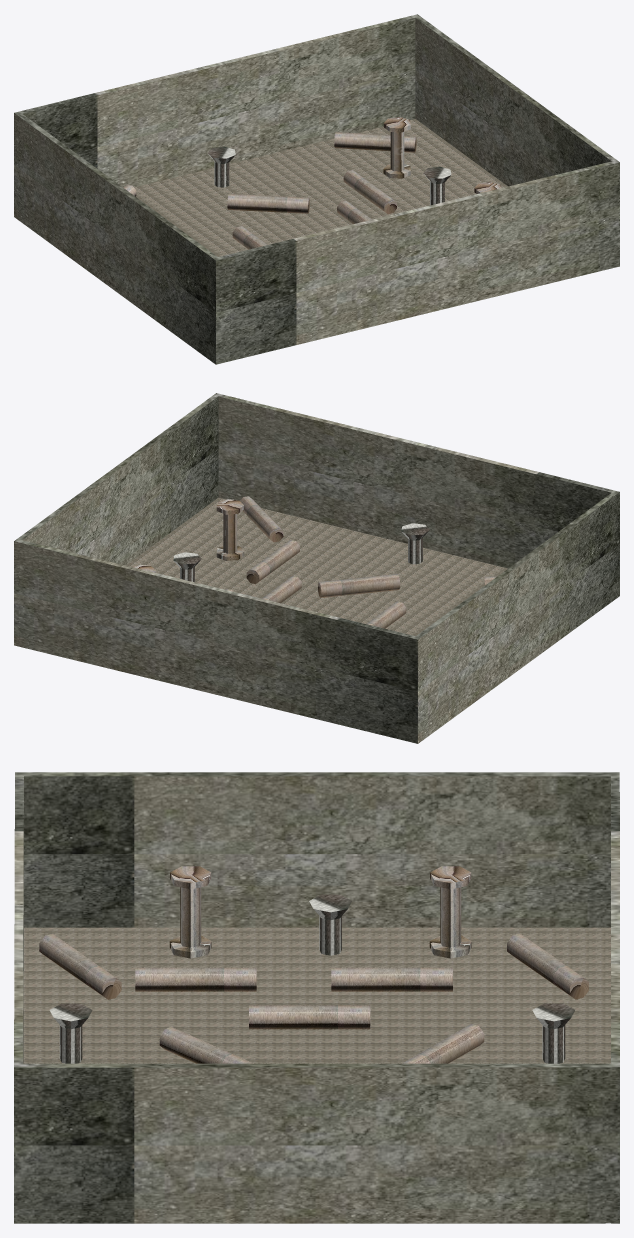
File: Column Arena.FBX
3 views of the same model, one above another, from view 1: azimuth 30°, elevation 25°; view 2: azimuth 150°, elevation 25°; view 3: azimuth 270°, elevation 25° (orthographic). The views are drawn at different scales.
Visible parts, largest first — view 1: Wall001, Box001, Cylinder018, Cylinder009, Cylinder022, Cylinder013, Cylinder023, Cylinder010; view 2: Wall001, Box001, Cylinder017, Cylinder008, Cylinder014, Cylinder021, Cylinder024, Cylinder016, Cylinder010, Cylinder015; view 3: Wall001, Box001, Cylinder011, Cylinder012, Cylinder016, Cylinder007, Cylinder006, Cylinder020, Cylinder019, Cylinder017, Cylinder024, Cylinder023 (+2 smaller).
Part boxes in pixels (x1,y1,x2,y2): Wall001: [14, 14, 619, 364]; Box001: [134, 119, 507, 256]; Cylinder018: [227, 194, 309, 213]; Cylinder009: [383, 117, 410, 178]; Cylinder022: [334, 132, 416, 152]; Cylinder013: [343, 170, 396, 214]; Cylinder023: [207, 146, 235, 187]; Cylinder010: [423, 166, 451, 205]; Wall001: [14, 393, 619, 743]; Box001: [126, 497, 507, 636]; Cylinder017: [318, 574, 400, 597]; Cylinder008: [216, 499, 244, 560]; Cylinder014: [246, 540, 299, 584]; Cylinder021: [240, 496, 283, 542]; Cylinder024: [401, 523, 429, 564]; Cylinder016: [366, 601, 406, 628]; Cylinder010: [173, 552, 201, 582]; Cylinder015: [262, 576, 301, 603]; Wall001: [14, 772, 619, 1223]; Box001: [23, 927, 610, 1063]; Cylinder011: [135, 967, 256, 991]; Cylinder012: [331, 967, 452, 991]; Cylinder016: [249, 1005, 370, 1029]; Cylinder007: [169, 866, 211, 958]; Cylinder006: [429, 866, 471, 958]; Cylinder020: [39, 934, 121, 999]; Cylinder019: [507, 933, 589, 999]; Cylinder017: [159, 1027, 253, 1063]; Cylinder024: [49, 1003, 92, 1063]; Cylinder023: [532, 1003, 575, 1063].
Size of the model in its own units: 389 by 96 by 338.
